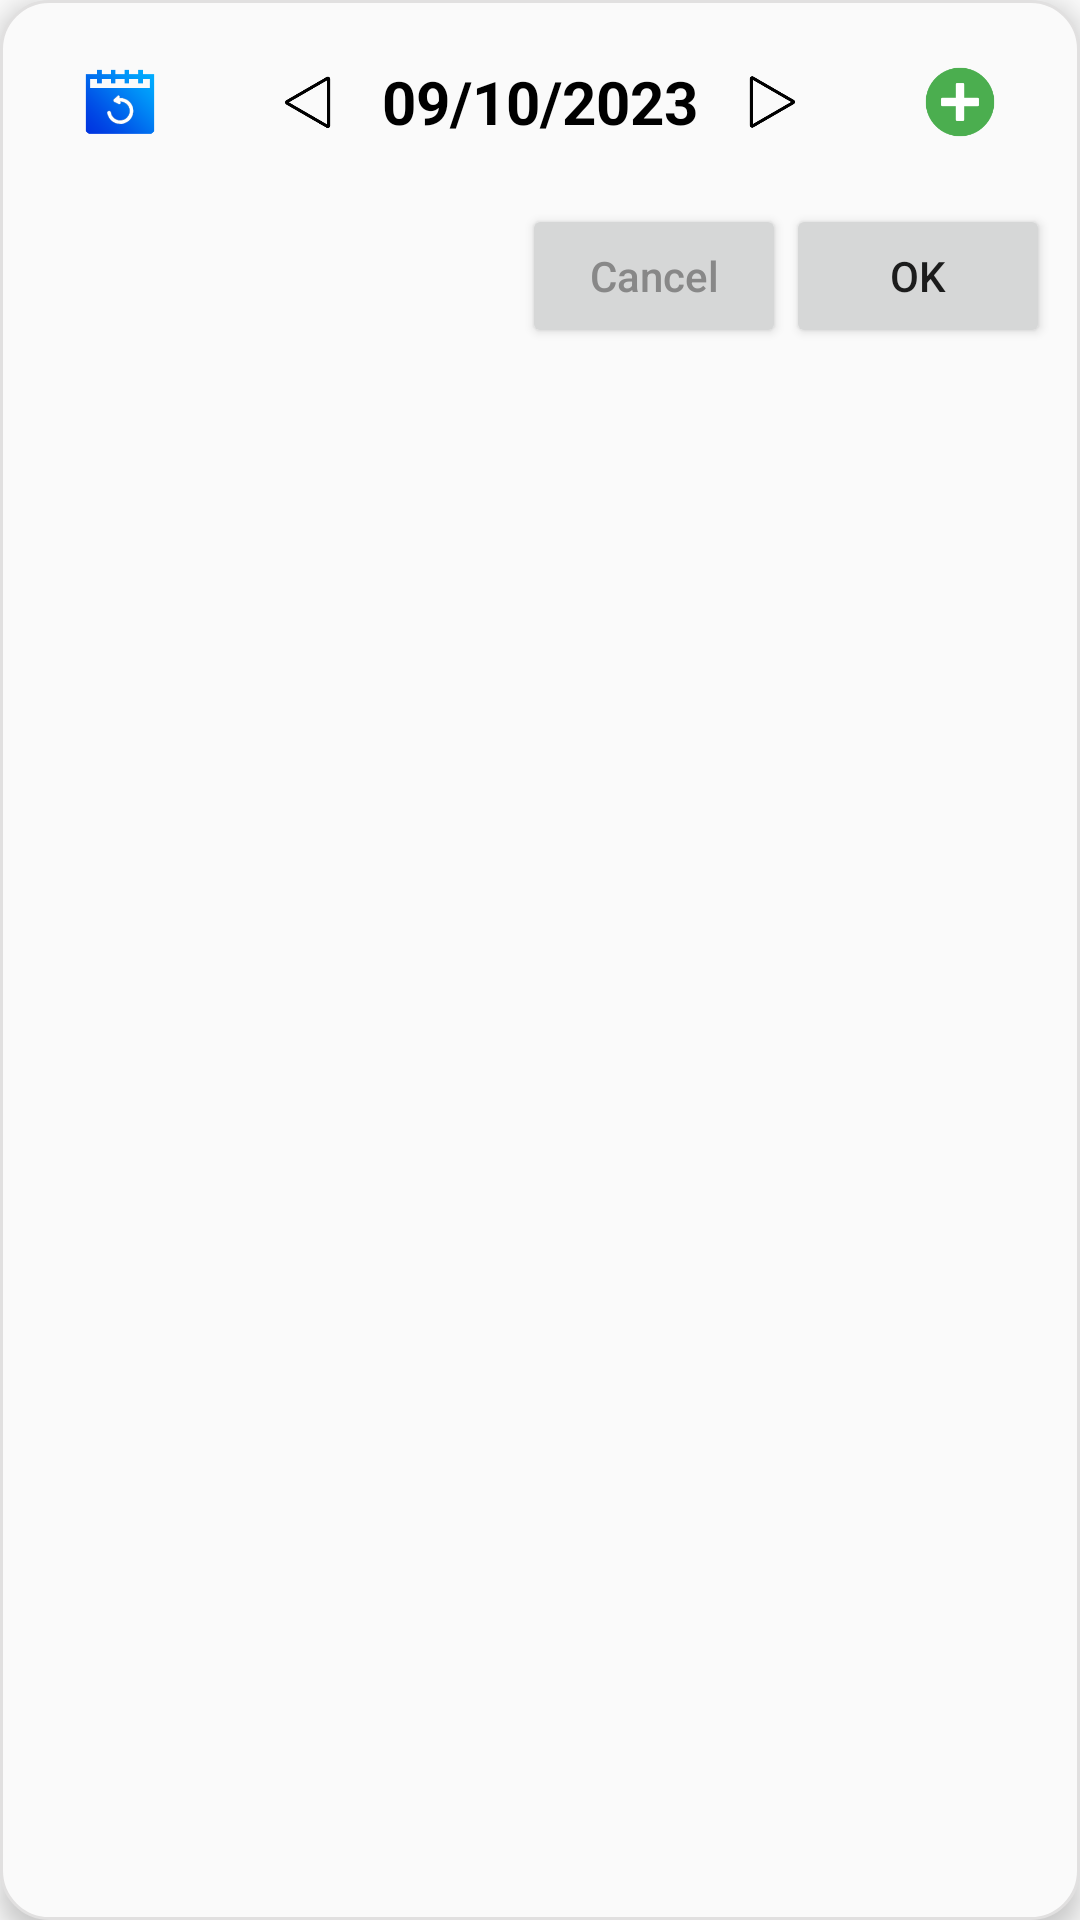

Icon bounding boxes for this 1080×1920 phone screenshot, format (x1, y1, x2, y2):
add event: (926, 68, 994, 136)
back: (285, 76, 331, 128)
next: (749, 76, 795, 128)
to day: (85, 69, 155, 134)
